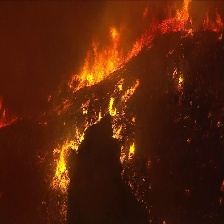fire: (128, 1, 198, 58), (105, 79, 144, 160), (41, 125, 87, 190), (78, 29, 129, 87), (170, 66, 186, 89)
